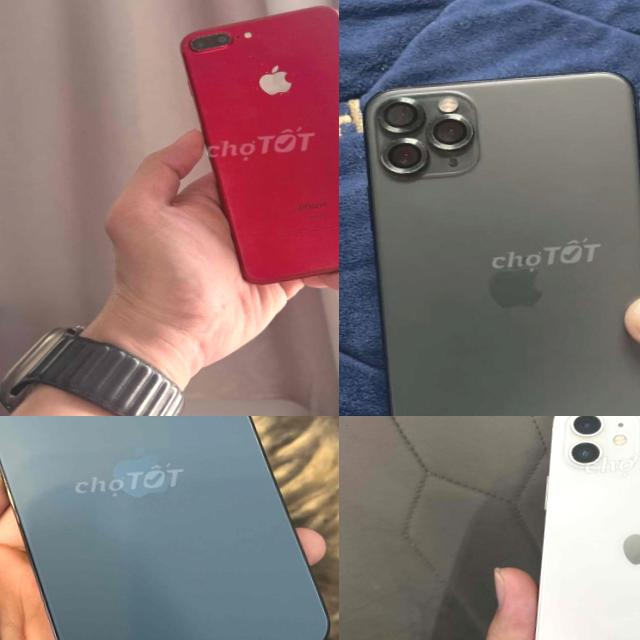scratch: (185, 28, 236, 54), (404, 130, 436, 156), (468, 124, 490, 142), (377, 92, 401, 108)
